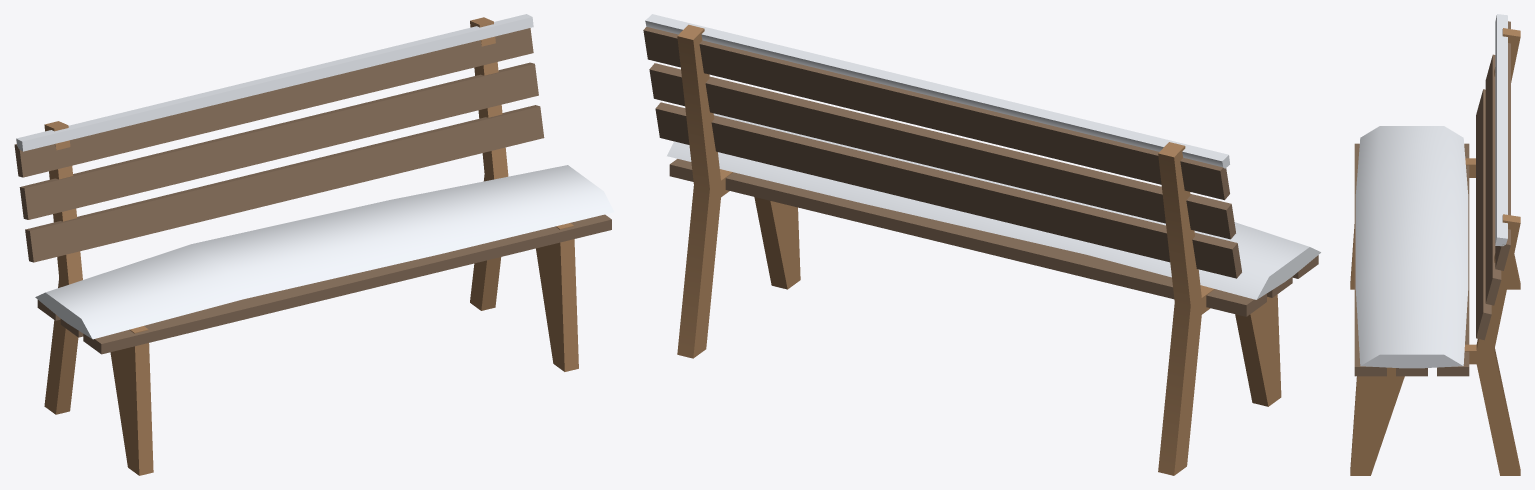
The model's file is bench_snow.glb.
The picture shows the model from 3 angles, left to right: view 1: azimuth 30°, elevation 25°; view 2: azimuth 150°, elevation 25°; view 3: azimuth 270°, elevation 25°; orthographic projection. The views are drawn at different scales.
Visible parts, largest first — view 1: bench_snow, snow, legs; view 2: bench_snow, legs, snow; view 3: snow, legs, bench_snow.
Part boxes in pixels (bbox=[...]): bench_snow: bbox=[14, 28, 611, 354]; snow: bbox=[16, 14, 614, 339]; legs: bbox=[44, 17, 578, 475]; bench_snow: bbox=[643, 26, 1318, 316]; legs: bbox=[677, 24, 1281, 475]; snow: bbox=[645, 14, 1320, 299]; snow: bbox=[1355, 14, 1507, 368]; legs: bbox=[1350, 28, 1520, 475]; bench_snow: bbox=[1354, 21, 1510, 376].
Size of the model in its own units: 1.84 by 0.96 by 0.58.
